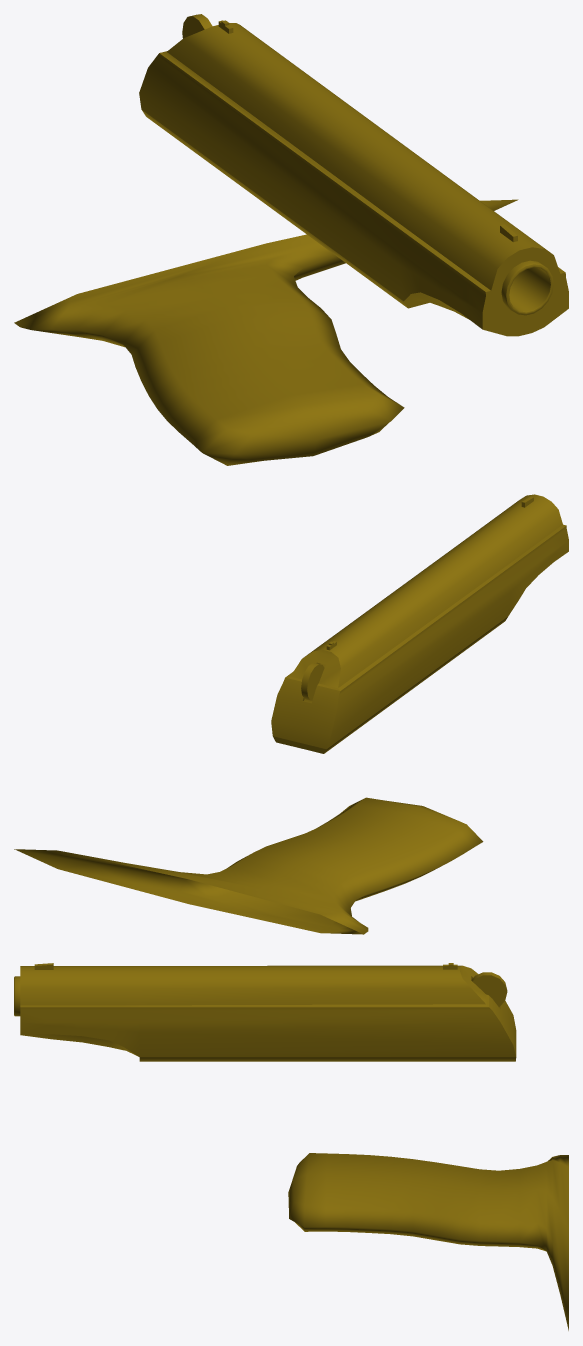
File: Makarov Low Poly.FBX
The picture shows the model from 3 angles, top to bottom: view 1: azimuth 30°, elevation 25°; view 2: azimuth 150°, elevation 25°; view 3: azimuth 270°, elevation 25°; orthographic projection. The views are drawn at different scales.
Visible parts, largest first — view 1: Low Poly Barrel, Low Poly Base; view 2: Low Poly Barrel, Low Poly Base; view 3: Low Poly Barrel, Low Poly Base.
Boxes of the visible parts, x1,y1,x2,y2 form: Low Poly Barrel: (139,14,568,336); Low Poly Base: (14,199,518,465); Low Poly Barrel: (271,494,568,753); Low Poly Base: (14,797,483,934); Low Poly Barrel: (14,963,516,1061); Low Poly Base: (288,1153,568,1330).
Size of the model in its own units: 9.49 by 6.36 by 12.58.
